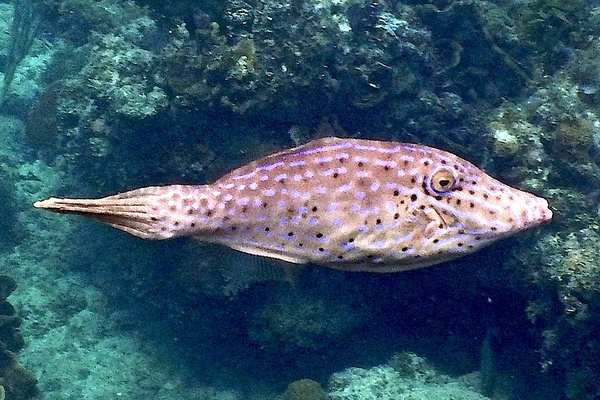Aluterus_scriptus: (30, 125, 562, 289)
